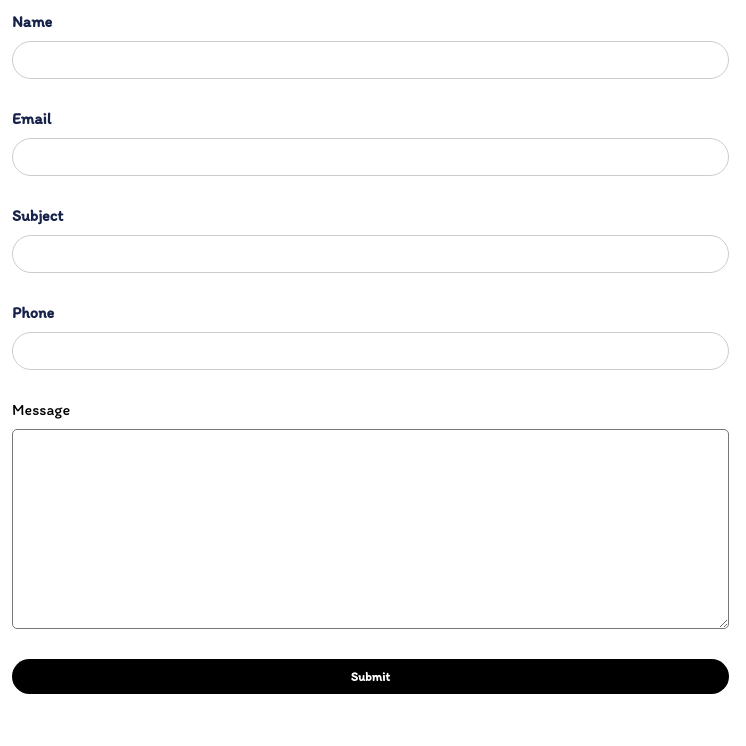
Test: EnquiryForm › displays success message on successful form submission
The width and height of the screenshot is (746, 746).
Type "John Doe" into the field labelled "Name". click: (370, 60)
box: x1=12 y1=41 x2=729 y2=79
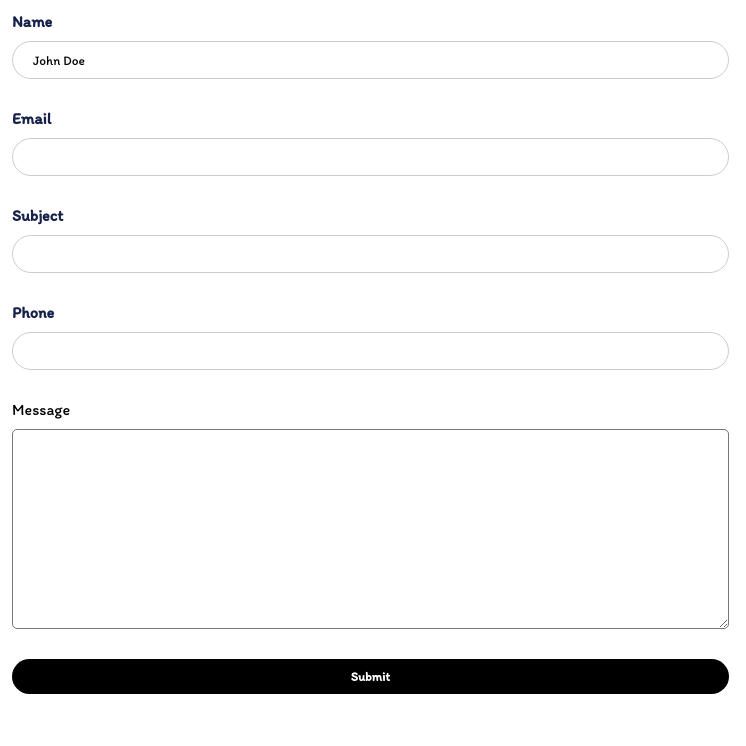
Type "johndoe@example.com" into the field labelled "Email". click: (370, 157)
box: x1=12 y1=138 x2=729 y2=176
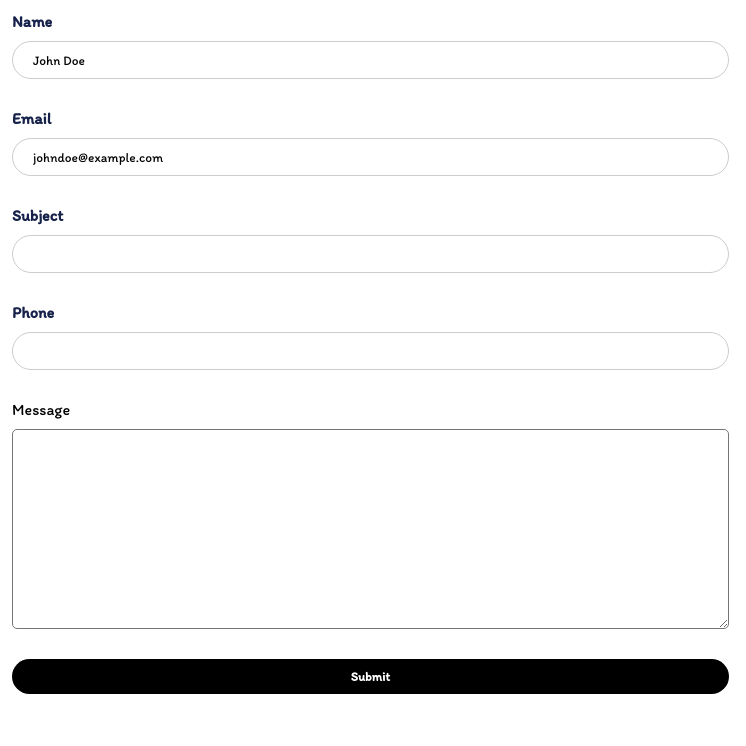
Type "Test Subject" into the field labelled "Subject". click: (370, 254)
box: x1=12 y1=235 x2=729 y2=273
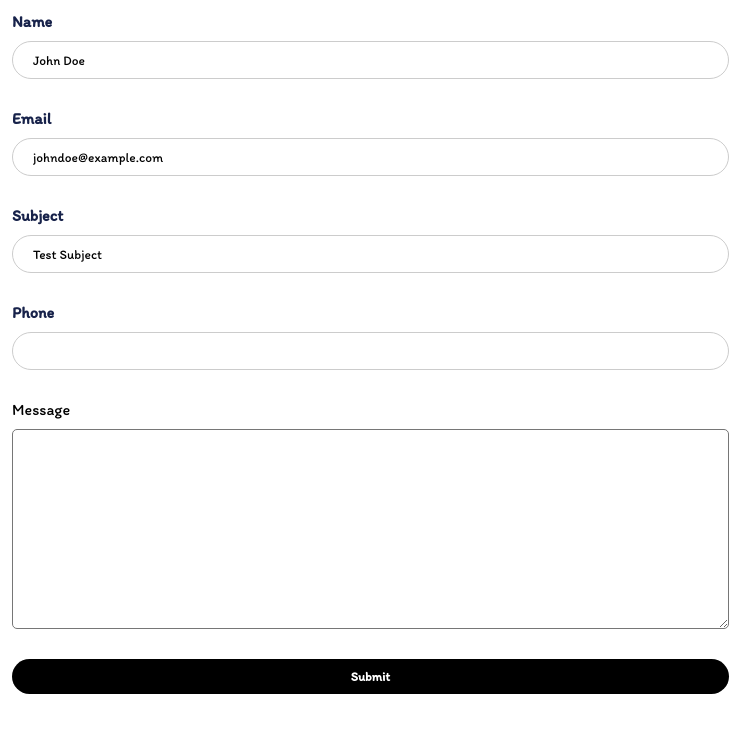
Type "Test Message" into the text box labelled "Message". click: (370, 529)
box: x1=12 y1=429 x2=729 y2=629
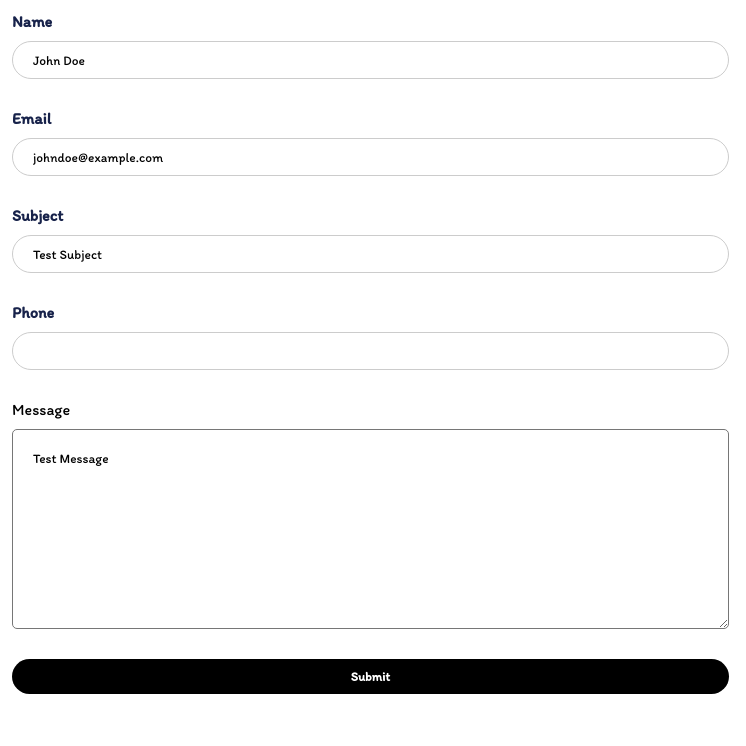
Click the button "Submit". click: (370, 676)
box: x1=12 y1=659 x2=729 y2=694
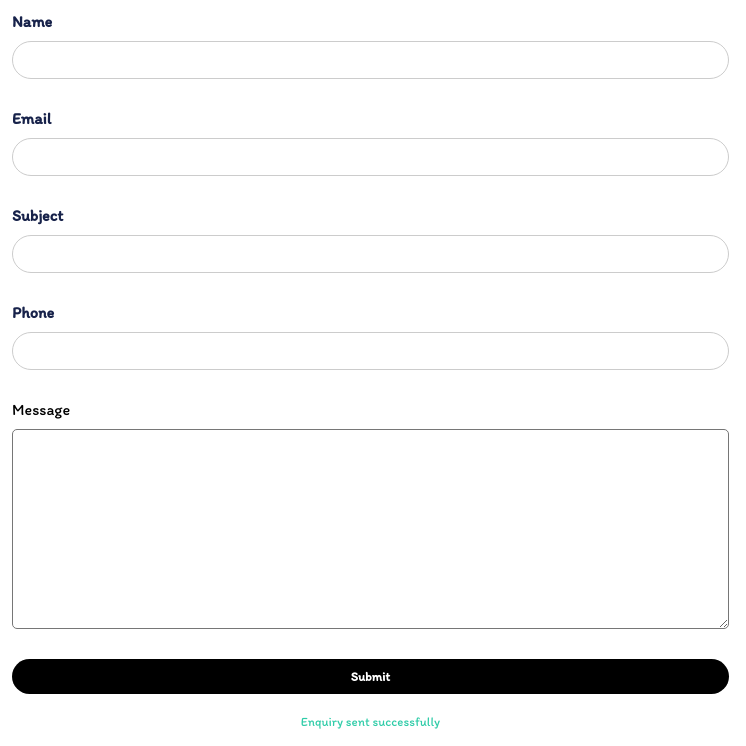
expect the text "Enquiry sent successfully" is shown: met, box x1=301 y1=714 x2=440 y2=729
